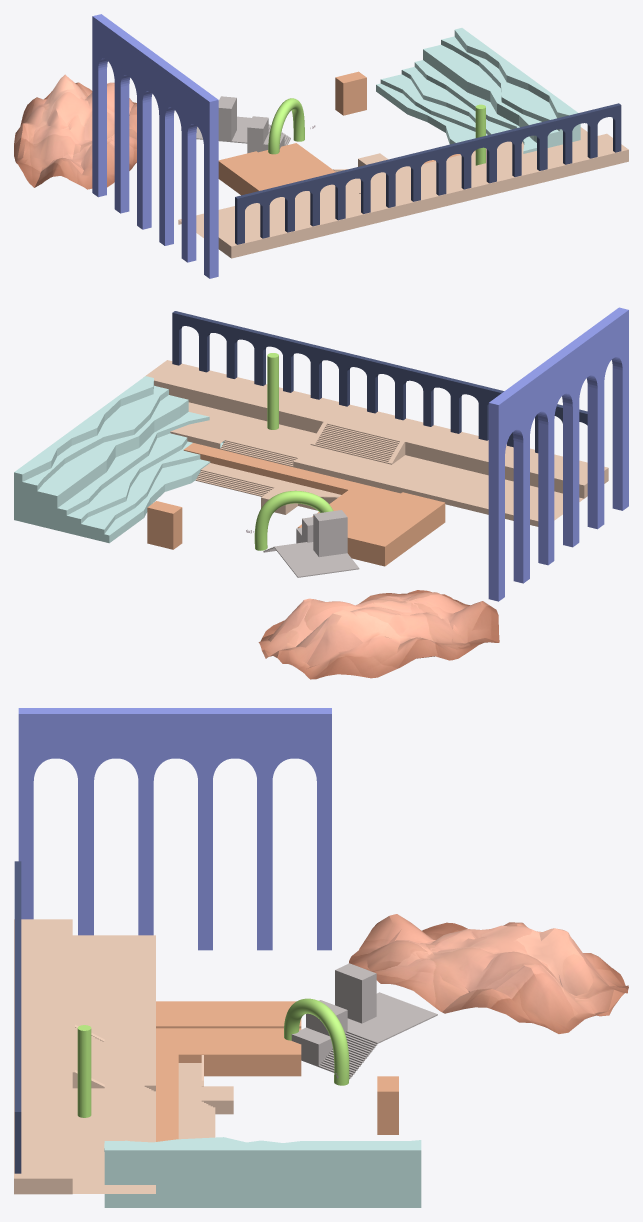
Rendered from diorama-test.glb.
The picture shows the model from 3 angles, top to bottom: view 1: azimuth 30°, elevation 25°; view 2: azimuth 150°, elevation 25°; view 3: azimuth 270°, elevation 25°; orthographic projection. The views are drawn at different scales.
Visible parts, largest first — view 1: High Arch, Terrace 1, Big Stairs, Blue Arch, Rocks, Terrace 2, Corner, Lemon; view 2: Terrace 1, High Arch, Big Stairs, Rocks, Blue Arch, Terrace 2, Corner, Lemon; view 3: Terrace 1, High Arch, Big Stairs, Rocks, Terrace 2, Corner, Lemon, Blue Arch.
Boxes of the visible parts, x1,y1,x2,y2 form: High Arch: (92,14,218,278); Terrace 1: (178,127,628,258); Big Stairs: (376,28,580,153); Blue Arch: (235,103,621,244); Rocks: (14,74,136,189); Terrace 2: (218,71,474,195); Corner: (196,96,290,153); Lemon: (268,98,485,165); Terrace 1: (143,360,608,526); High Arch: (488,307,628,601); Big Stairs: (14,376,224,543); Rocks: (258,590,499,679); Blue Arch: (172,311,587,453); Terrace 2: (147,443,445,566); Corner: (263,510,359,577); Lemon: (254,353,333,550); Terrace 1: (14,919,233,1194); High Arch: (18,708,331,950); Big Stairs: (104,1137,421,1207); Rocks: (349,914,628,1033); Terrace 2: (156,1001,398,1141); Corner: (291,963,437,1078); Lemon: (77,998,349,1117); Blue Arch: (14,861,21,1173).
Size of the model in its own units: 100 by 39.61 by 88.99.
